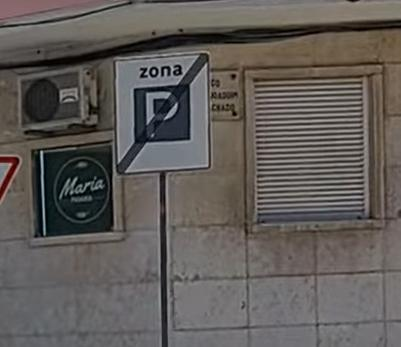fim de zona de estacionamento autorizado: (107, 48, 215, 179)
